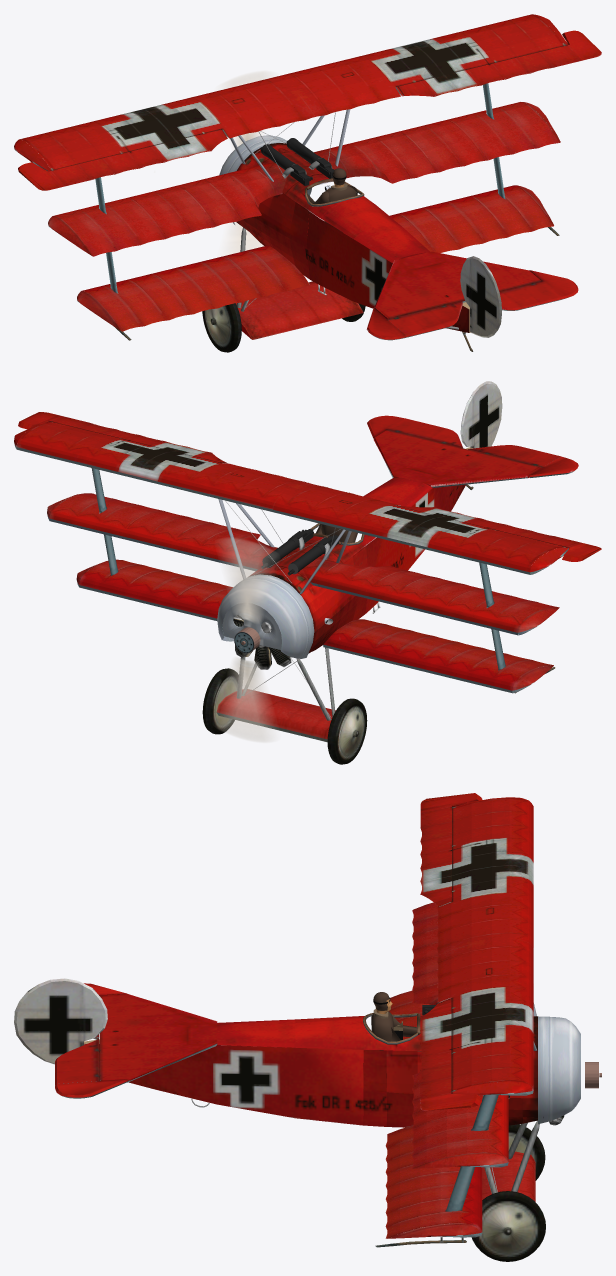
Rendered from xac_dr1_red.glb.
3 views of the same model, one above another, from view 1: azimuth 30°, elevation 25°; view 2: azimuth 150°, elevation 25°; view 3: azimuth 270°, elevation 25° (orthographic). The views are drawn at different scales.
Visible parts, largest first — view 1: wing1, wing2, fuse, wing3, wing4, anm_elevator, anm_aileronL, anm_aileronR, anm_rudder, wings_struts, wheels, guns (+3 smaller); view 2: wing1, wing2, fuse, wing3, propeller, fuse_cowl, wheels, wing4, wings_struts, anm_elevator, anm_rudder, anm_aileronL (+3 smaller); view 3: fuse, wing1, wing2, wing3, anm_rudder, wheels, fuse_cowl, anm_aileronR, anm_aileronL, anm_elevator, wings_struts, wing4 (+1 smaller).
Boxes of the visible parts, x1=… form: wing1: x1=14, y1=14, x2=568, y2=171; wing2: x1=48, y1=102, x2=560, y2=256; fuse: x1=233, y1=143, x2=541, y2=332; wing3: x1=77, y1=185, x2=553, y2=331; wing4: x1=236, y1=281, x2=363, y2=339; anm_elevator: x1=366, y1=270, x2=578, y2=340; anm_aileronL: x1=18, y1=129, x2=227, y2=190; anm_aileronR: x1=396, y1=30, x2=601, y2=96; anm_rudder: x1=460, y1=256, x2=501, y2=337; wings_struts: x1=95, y1=83, x2=505, y2=311; wheels: x1=202, y1=303, x2=365, y2=352; guns: x1=260, y1=138, x2=334, y2=185; wing1: x1=14, y1=421, x2=568, y2=574; wing2: x1=47, y1=493, x2=559, y2=635; fuse: x1=234, y1=430, x2=540, y2=652; wing3: x1=76, y1=559, x2=553, y2=693; propeller: x1=218, y1=538, x2=274, y2=742; fuse_cowl: x1=217, y1=574, x2=314, y2=658; wheels: x1=202, y1=668, x2=367, y2=764; wing4: x1=216, y1=689, x2=335, y2=742; wings_struts: x1=91, y1=468, x2=505, y2=720; anm_elevator: x1=367, y1=415, x2=578, y2=477; anm_rudder: x1=460, y1=381, x2=502, y2=448; anm_aileronL: x1=397, y1=505, x2=601, y2=561; fuse: x1=84, y1=994, x2=543, y2=1127; wing1: x1=437, y1=797, x2=533, y2=1095; wing2: x1=412, y1=902, x2=508, y2=1168; wing3: x1=385, y1=990, x2=482, y2=1238; anm_rudder: x1=14, y1=978, x2=107, y2=1064; wheels: x1=471, y1=1124, x2=545, y2=1261; fuse_cowl: x1=538, y1=1016, x2=580, y2=1124; anm_aileronR: x1=420, y1=998, x2=481, y2=1110; anm_aileronL: x1=420, y1=793, x2=482, y2=906; anm_elevator: x1=55, y1=983, x2=129, y2=1098; wings_struts: x1=445, y1=1003, x2=539, y2=1211; wing4: x1=482, y1=1151, x2=535, y2=1201.
Size of the model in its own units: 7.96 by 3.43 by 6.35.
Materials: 24 (11 with a texture image).
